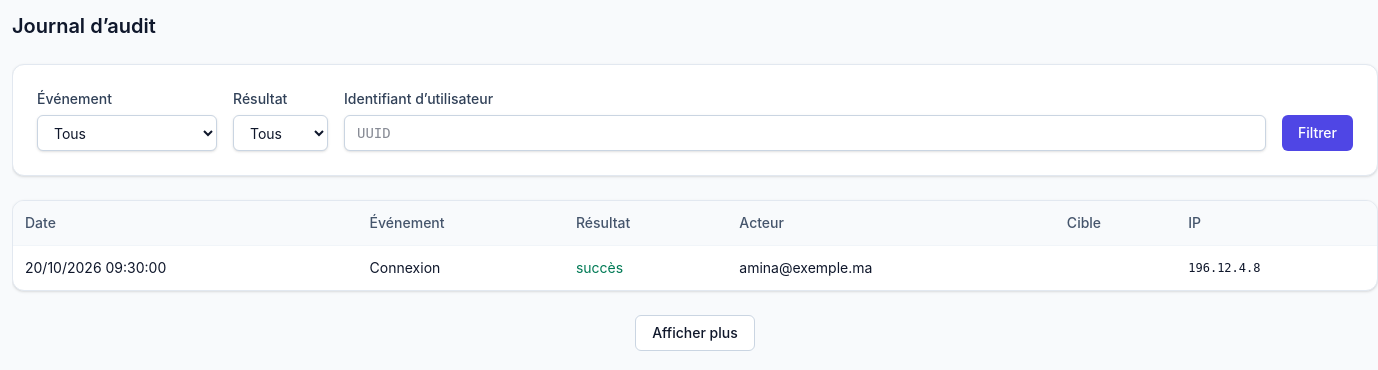
Scenario: AuditView › shows the events with readable labels and loads more with the cursor
The image size is (1378, 370).
Click the button "Afficher plus": [695, 333] box [635,315,755,351]
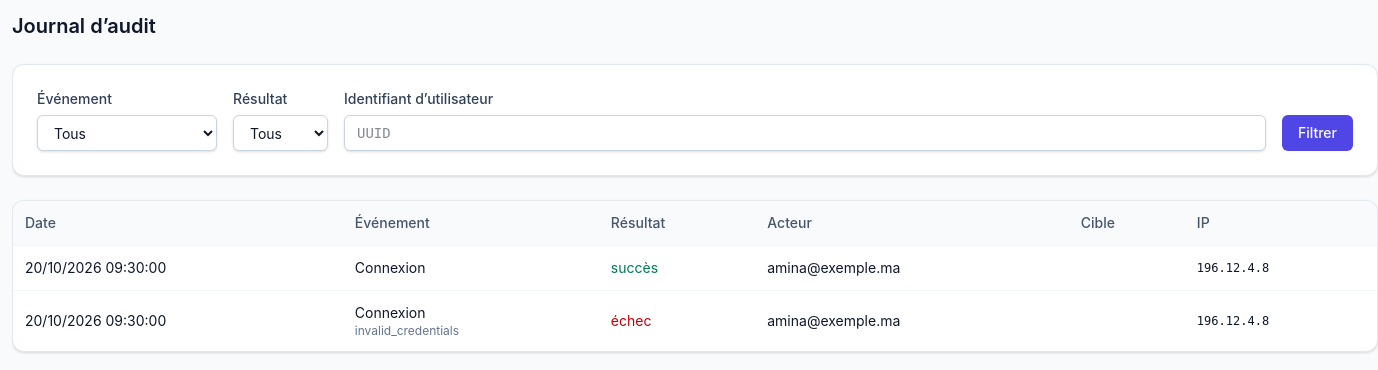
Result: the text "invalid_credentials" is shown at [355,323,459,338]
